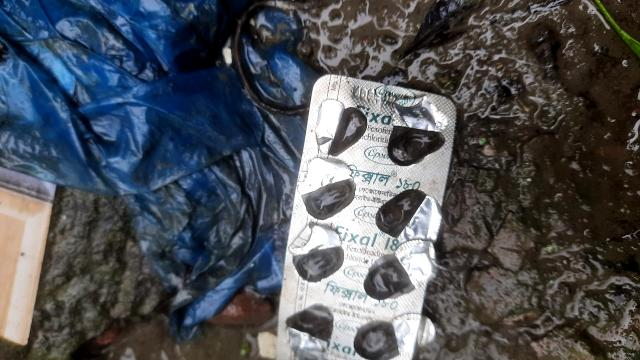medicine: (258, 77, 469, 360)
